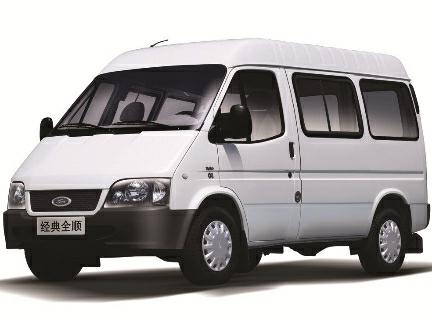福特-经典全顺: (4, 37, 432, 289)
